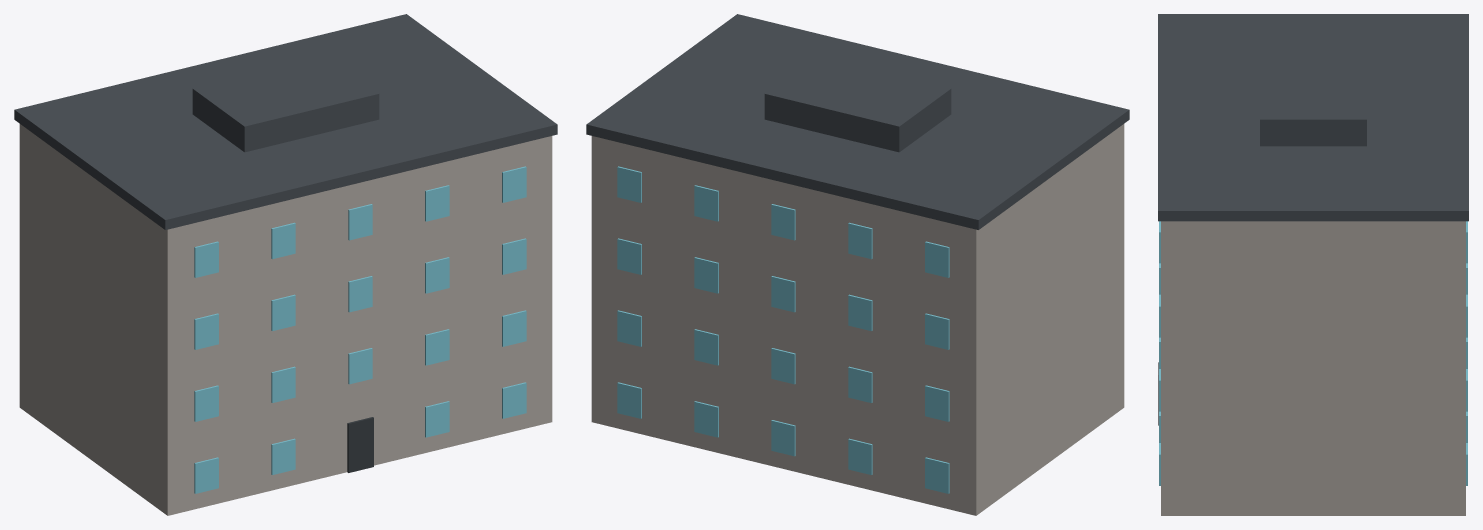
Rendered from apartment_lowrise.glb.
The picture shows the model from 3 angles, left to right: view 1: azimuth 30°, elevation 25°; view 2: azimuth 150°, elevation 25°; view 3: azimuth 270°, elevation 25°; orthographic projection. The views are drawn at different scales.
Parts seen in each view (by area): view 1: body, roof, win (×19), mech, door; view 2: body, roof, win (×20), mech; view 3: body, roof, mech.
Boxes of the visible parts, x1=… form: body: x1=19, y1=124, x2=552, y2=515; roof: x1=14, y1=14, x2=557, y2=229; win (×19): x1=194, y1=166, x2=526, y2=493; mech: x1=192, y1=56, x2=379, y2=152; door: x1=347, y1=417, x2=373, y2=472; body: x1=591, y1=124, x2=1124, y2=515; roof: x1=586, y1=14, x2=1129, y2=229; win (×20): x1=617, y1=166, x2=949, y2=493; mech: x1=764, y1=56, x2=951, y2=152; body: x1=1161, y1=221, x2=1465, y2=515; roof: x1=1158, y1=14, x2=1468, y2=221; mech: x1=1260, y1=52, x2=1366, y2=146.
Size of the model in its own units: 18.36 by 14.48 by 12.24.
